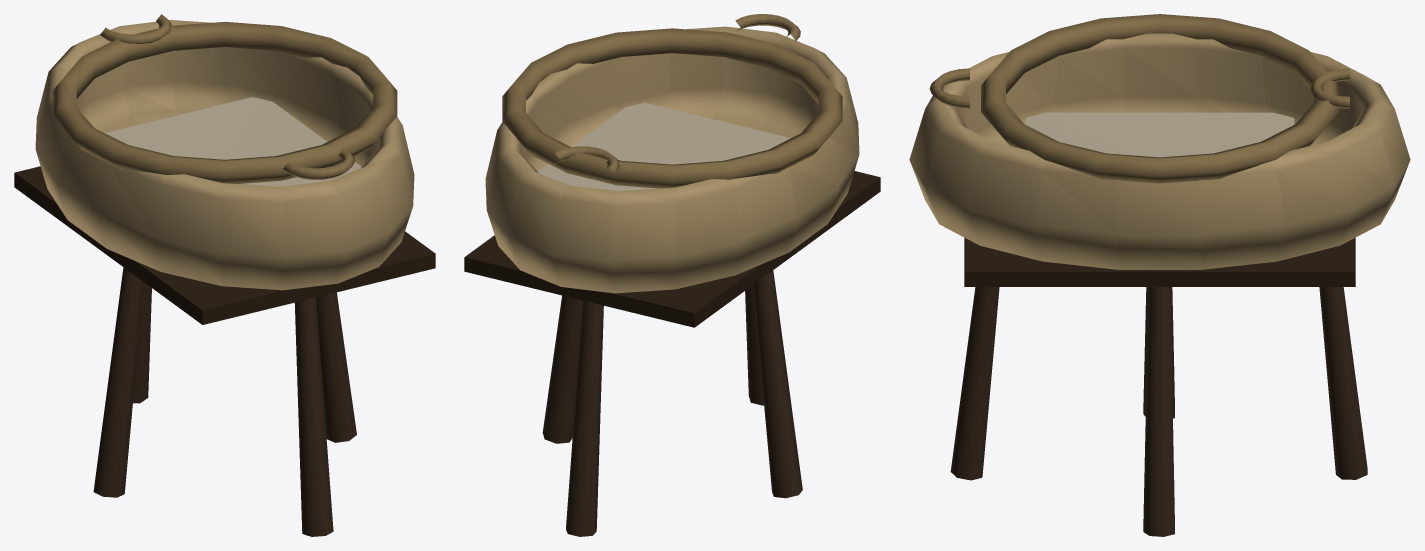
The model's file is bassinet.glb.
3 views of the same model, side by side, from view 1: azimuth 30°, elevation 25°; view 2: azimuth 150°, elevation 25°; view 3: azimuth 270°, elevation 25° (orthographic). The views are drawn at different scales.
Visible parts, largest first — view 1: bassinet; view 2: bassinet; view 3: bassinet.
Part boxes in pixels (x1=…): bassinet: x1=14, y1=14, x2=435, y2=536; bassinet: x1=464, y1=14, x2=880, y2=536; bassinet: x1=909, y1=14, x2=1410, y2=536.
Size of the model in its own units: 0.65 by 0.7738 by 0.896.
